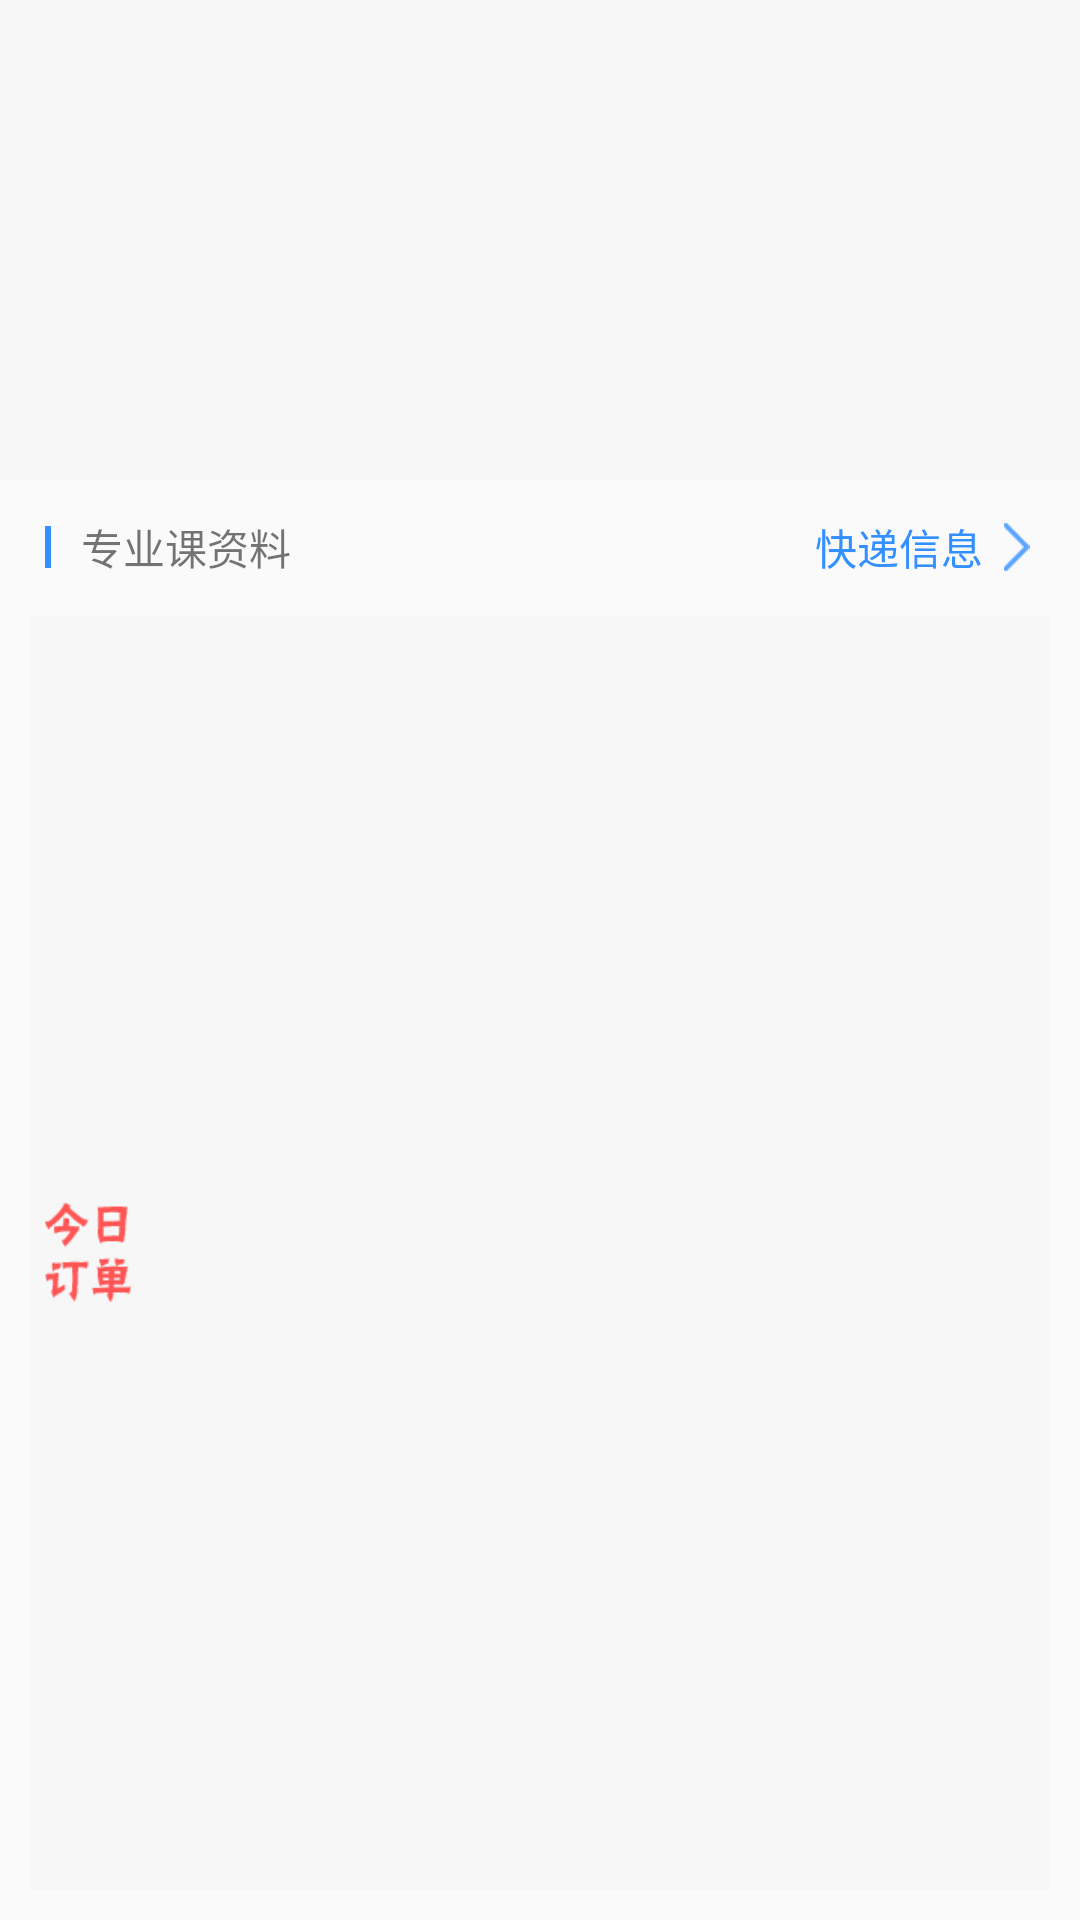

Locate icon controls on the screen. Image size 1080 × 1920, boxes as (x1,y1,x2,y2).
next: (1004,523,1030,571)
